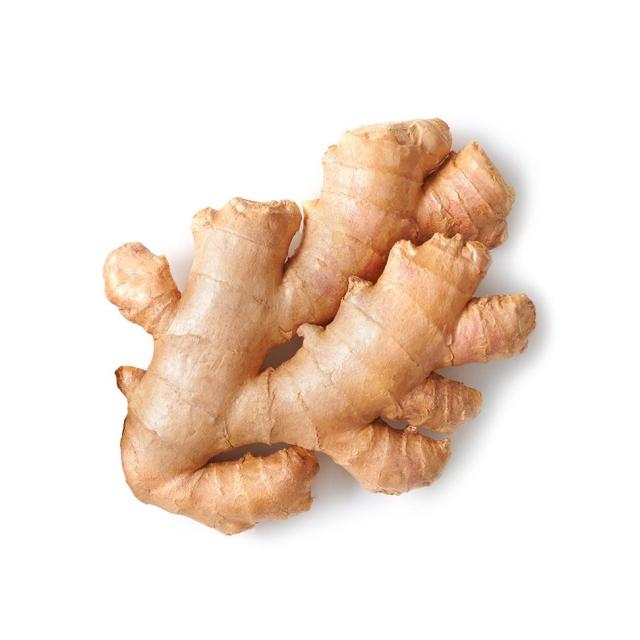ginger-root: (64, 99, 554, 553)
